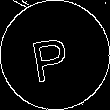P_N: (33, 27, 77, 83)
